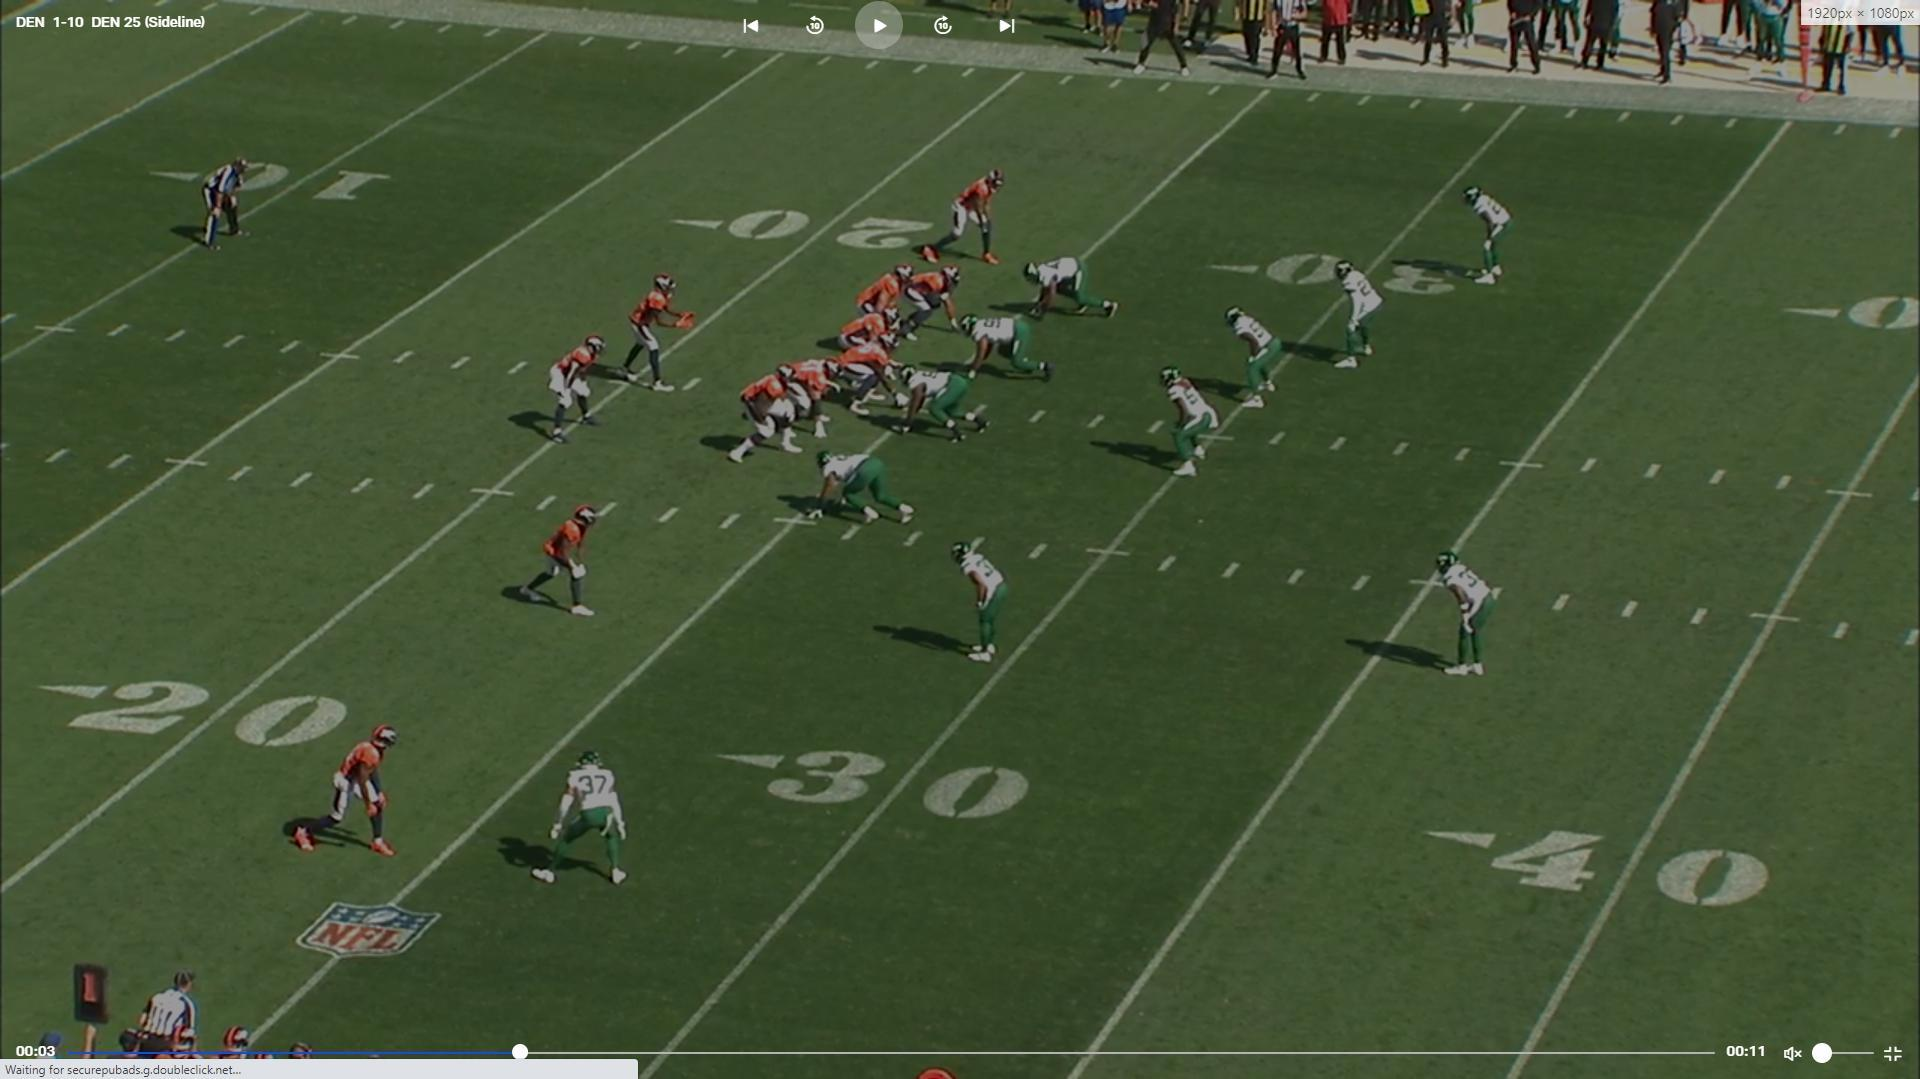player: (297, 722, 409, 865), (544, 744, 630, 891), (511, 495, 606, 622), (1433, 549, 1501, 688), (623, 266, 695, 395), (923, 166, 1006, 271), (809, 448, 918, 526), (728, 369, 812, 467), (888, 362, 985, 442), (541, 328, 605, 446), (951, 540, 1008, 672), (1159, 366, 1219, 485), (963, 314, 1059, 385), (1330, 253, 1387, 372), (1025, 254, 1120, 321), (1459, 185, 1518, 292), (1227, 304, 1285, 407), (780, 353, 849, 435), (834, 332, 902, 415), (892, 259, 962, 337), (852, 264, 911, 348), (837, 305, 903, 350)
ref: (147, 961, 212, 1054), (199, 154, 255, 255), (1258, 0, 1316, 90)
